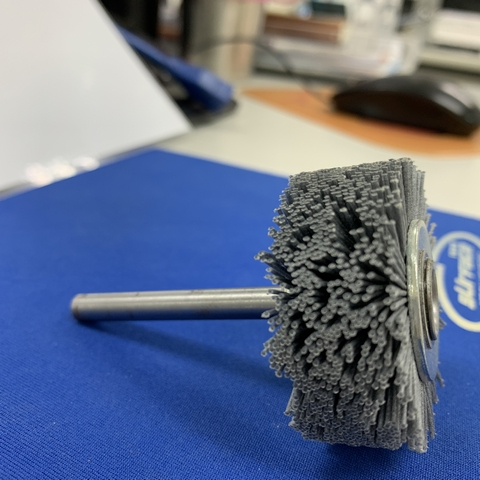Wheel Brush: (45, 166, 457, 463), (69, 161, 441, 449), (84, 149, 424, 454)
